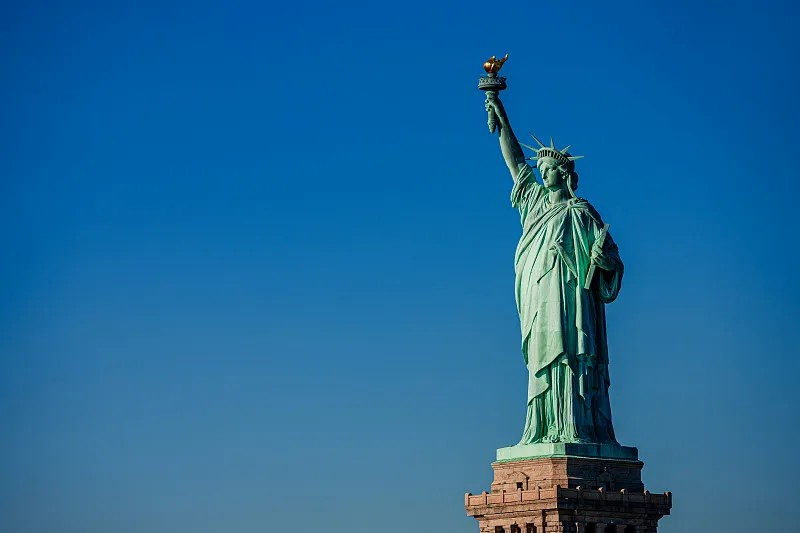SL: (464, 53, 673, 533)
